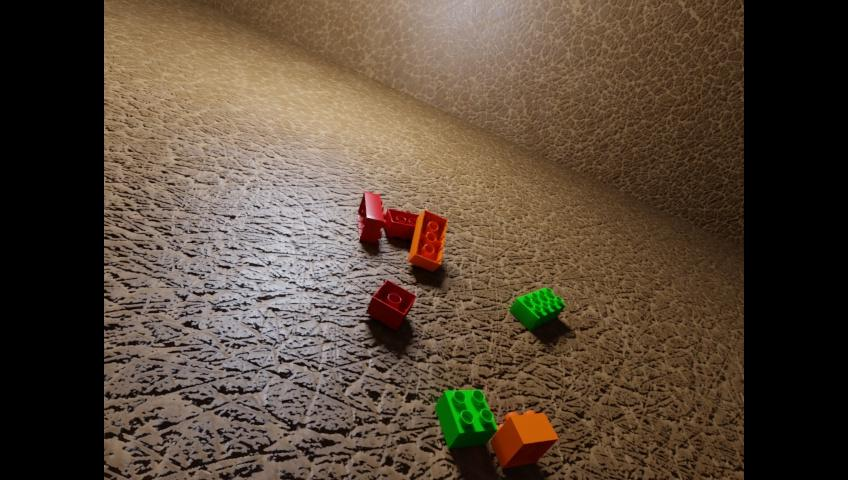2x2_green: (434, 389, 497, 448)
2x2_orange: (490, 409, 557, 468)
2x2_red: (365, 279, 416, 330)
4x2_green: (509, 287, 564, 330)
4x2_orange: (408, 209, 446, 271)
4x2_red: (356, 190, 384, 243), (384, 207, 419, 240)
